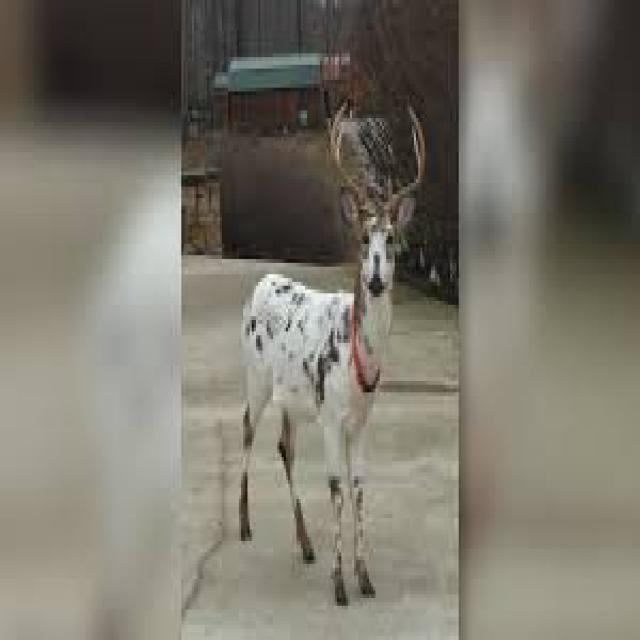Deer: (239, 92, 429, 606)
